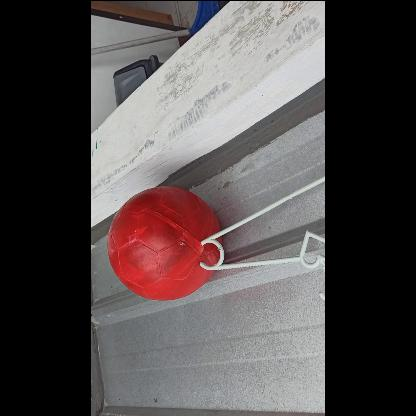red_ball: (106, 184, 222, 302)
